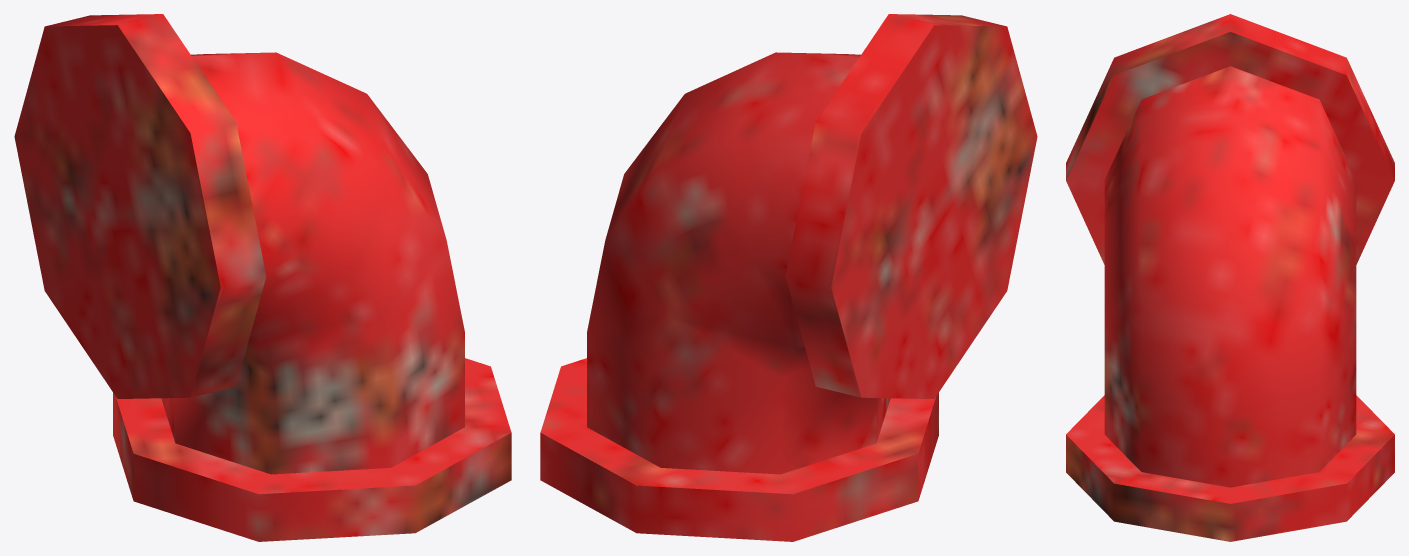
Rendered from SM_PROP_PIPE_METAL_06.fbx.
3 renders of one model, left to right at view 1: azimuth 30°, elevation 25°; view 2: azimuth 150°, elevation 25°; view 3: azimuth 270°, elevation 25°, orthographic. The views are drawn at different scales.
Visible parts, largest first — view 1: SM_PROP_PIPE_METAL_06; view 2: SM_PROP_PIPE_METAL_06; view 3: SM_PROP_PIPE_METAL_06.
Boxes of the visible parts, x1,y1,x2,y2 form: SM_PROP_PIPE_METAL_06: (14, 14, 511, 541); SM_PROP_PIPE_METAL_06: (540, 14, 1037, 541); SM_PROP_PIPE_METAL_06: (1066, 14, 1394, 541).
Bounding box in the file's own units: 0.4092 × 0.5029 × 0.3917.
